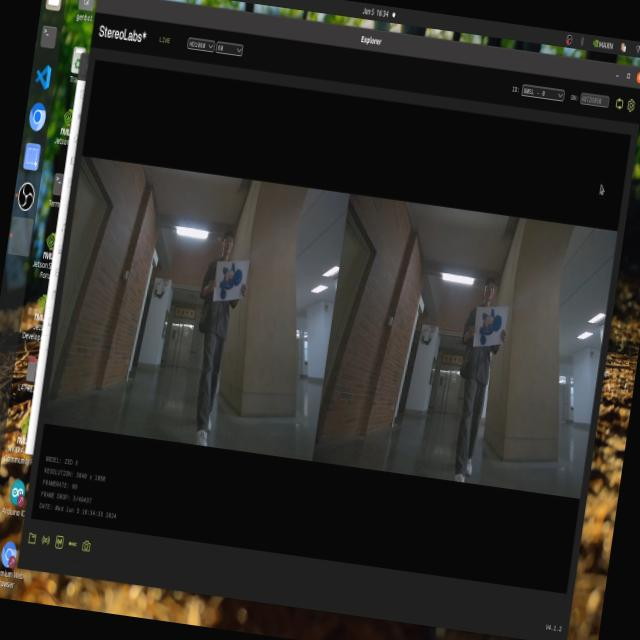blue: (212, 261, 251, 305), (473, 303, 511, 347)
